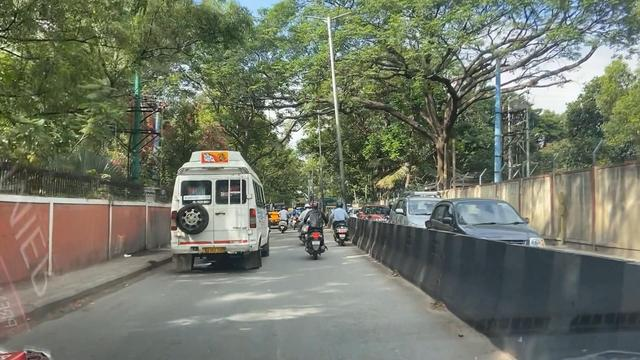HMV: (170, 142, 261, 273), (301, 198, 323, 257)
